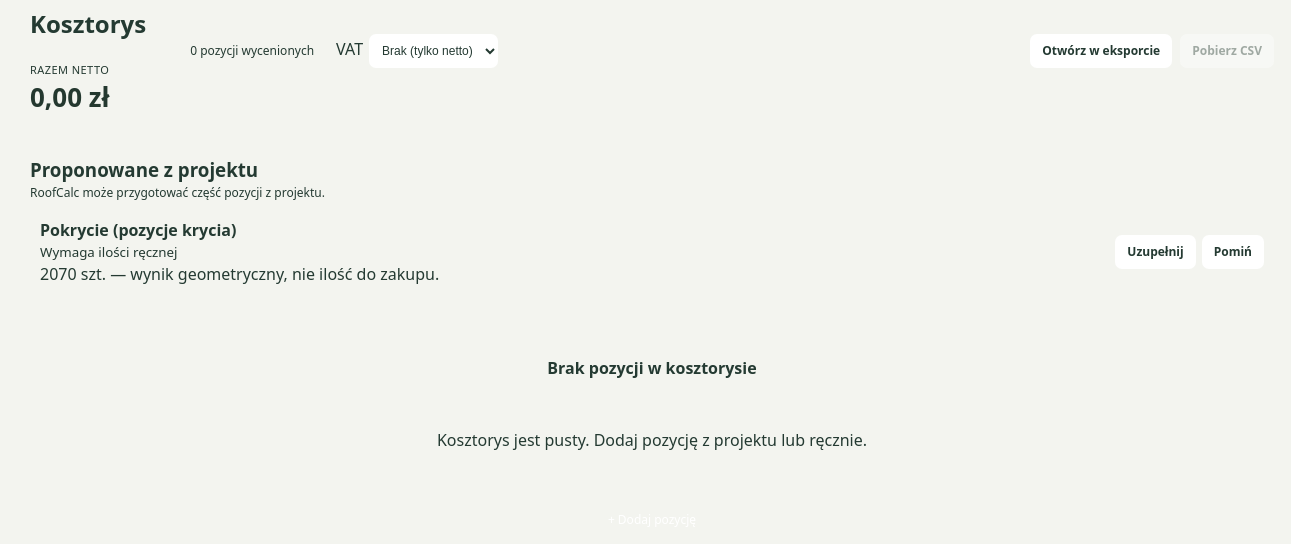
CostWorkspace › never pre-fills a covering suggestion with the geometric count as quantity
Expected: the text "2070 szt. — wynik geometryczny, nie ilość do zakupu." is shown, [40,263,439,285]
What coordinates should you click on to do the following:
click the button "Uzupełnij"
I would click on:
 (1156, 252)
Its box is [1115,235,1196,269].
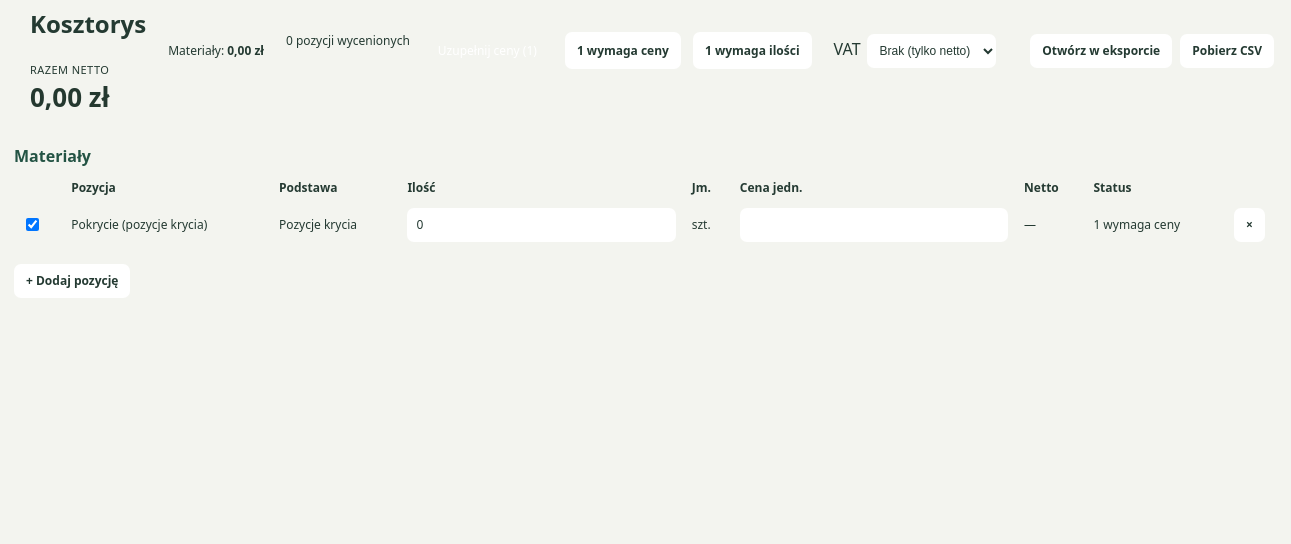
Expected: the 1st field showing "0" holds "0", [408,208,676,242]
Expected: the 1st field showing "0" does not hold "2070", [408,208,676,242]
